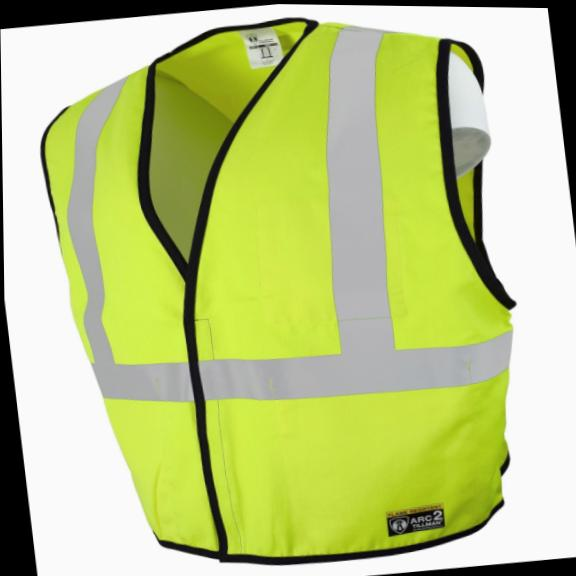safety_vest: (25, 0, 548, 576)
